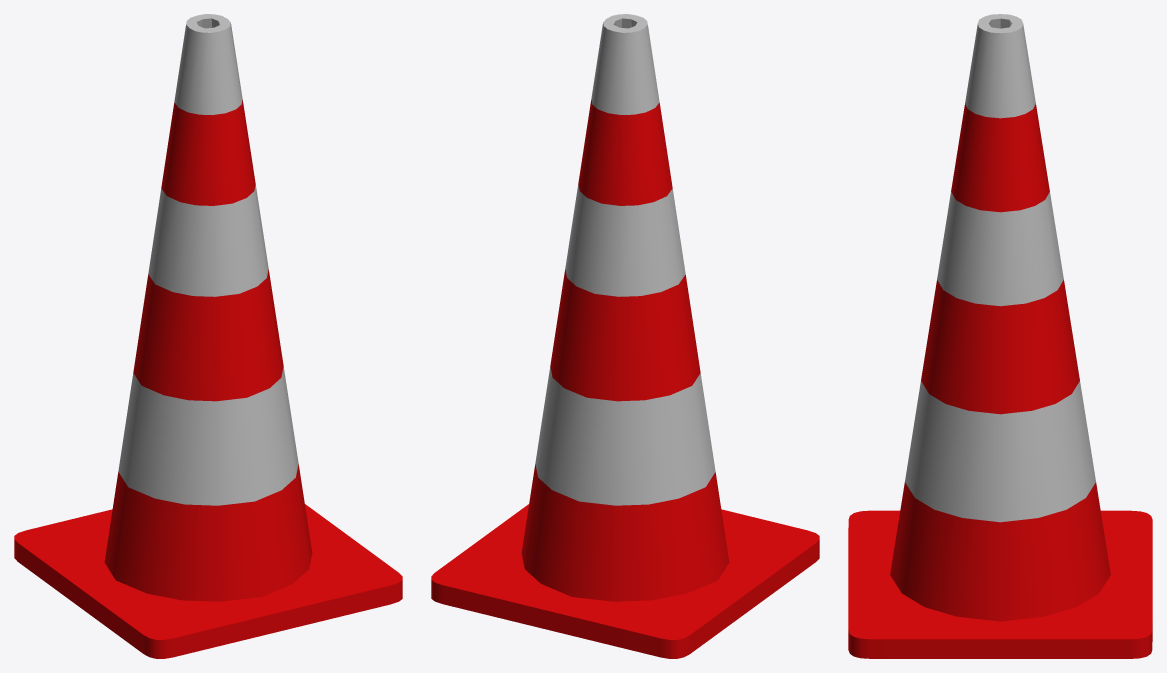
The picture shows the model from 3 angles, left to right: view 1: azimuth 30°, elevation 25°; view 2: azimuth 150°, elevation 25°; view 3: azimuth 270°, elevation 25°; orthographic projection. The views are drawn at different scales.
Visible parts, largest first — view 1: Cone; view 2: Cone; view 3: Cone.
Part boxes in pixels (x1,y1,x2,y2): Cone: (14,14,402,658); Cone: (431,14,819,658); Cone: (848,14,1152,658).
Size of the model in its own units: 17.1 by 35.4 by 17.1.
